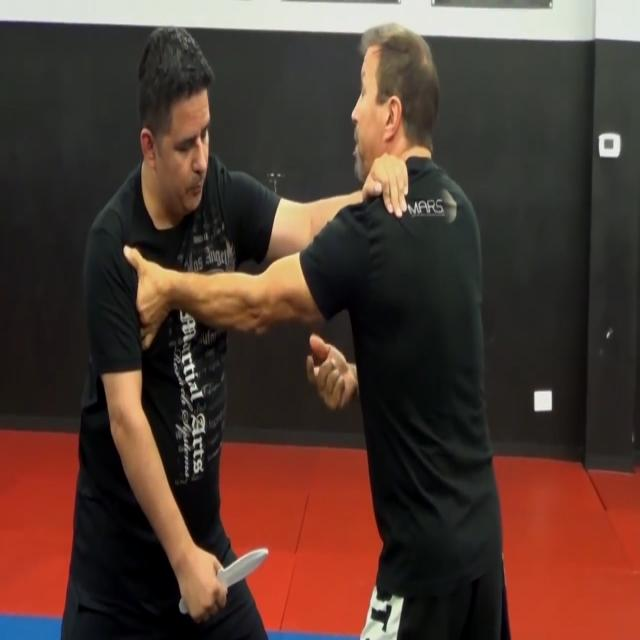knife: (219, 547, 274, 596)
